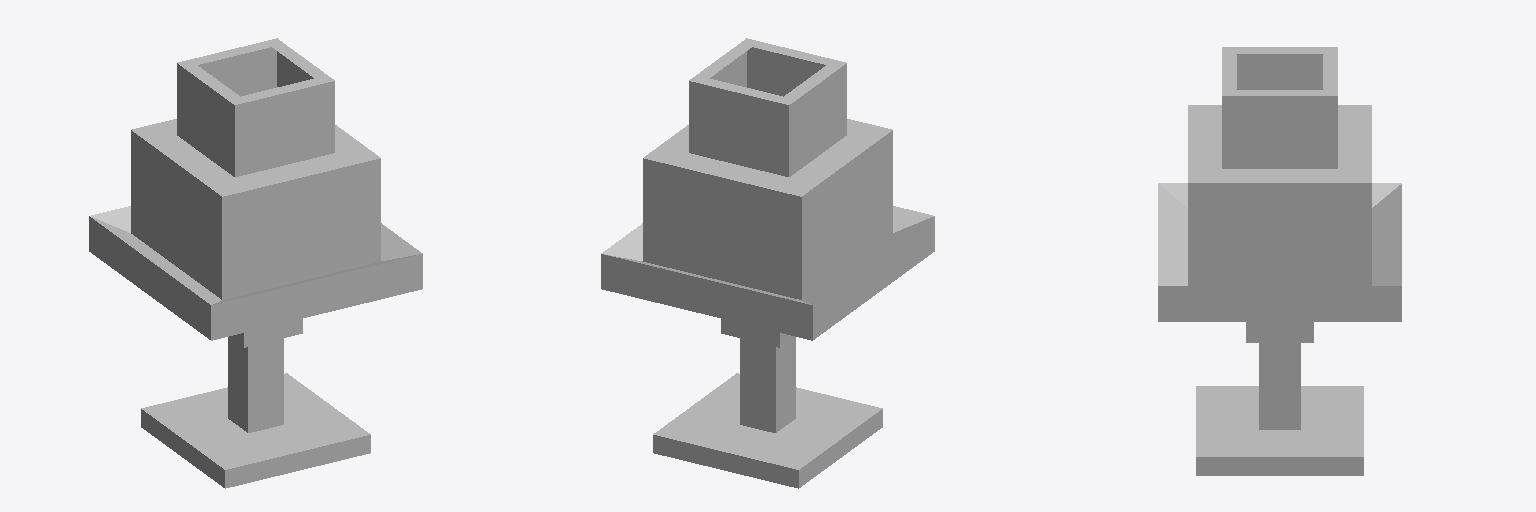
File: lamp.obj
The picture shows the model from 3 angles: view 1: azimuth 30°, elevation 25°; view 2: azimuth 150°, elevation 25°; view 3: azimuth 270°, elevation 25°; orthographic projection.
Visible parts, largest first — view 1: pCube004; view 2: pCube004; view 3: pCube004.
Boxes of the visible parts, <box> form: pCube004: <box>89,38,422,488</box>; pCube004: <box>601,38,934,488</box>; pCube004: <box>1158,47,1401,475</box>.
Size of the model in its own units: 11.4 by 18.95 by 11.4.